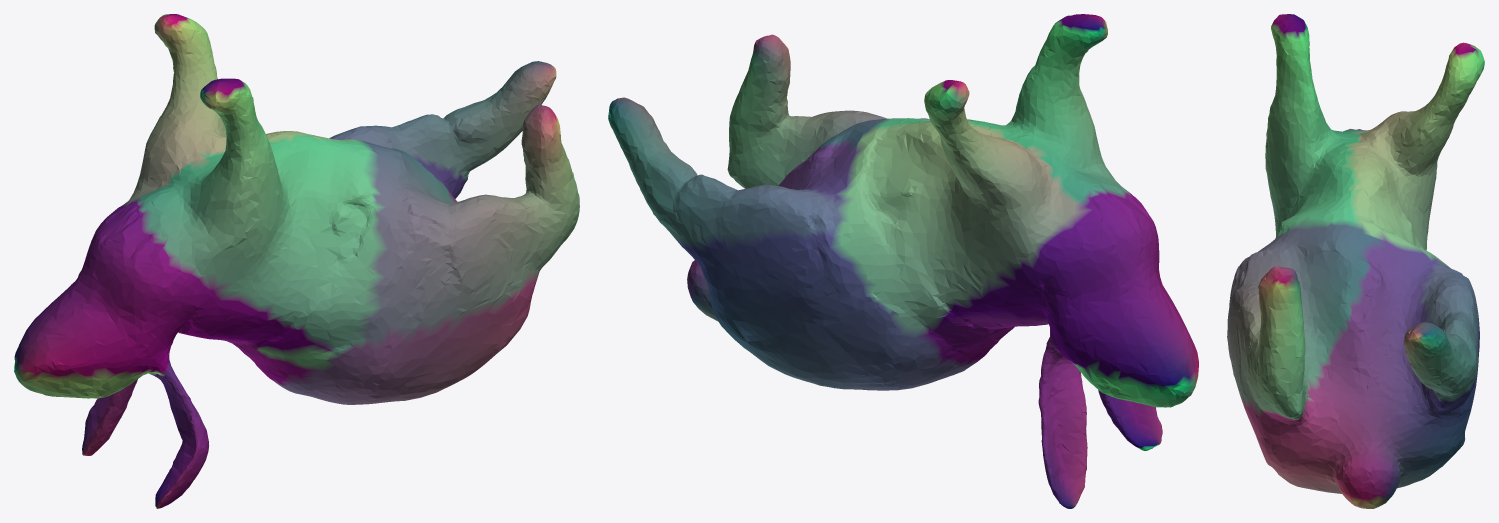
Rendered from rabbit-17.off.obj.
The picture shows the model from 3 angles, left to right: view 1: azimuth 30°, elevation 25°; view 2: azimuth 150°, elevation 25°; view 3: azimuth 270°, elevation 25°; orthographic projection. The views are drawn at different scales.
Size of the model in its own units: 1.69 by 1.2 by 0.6925.
